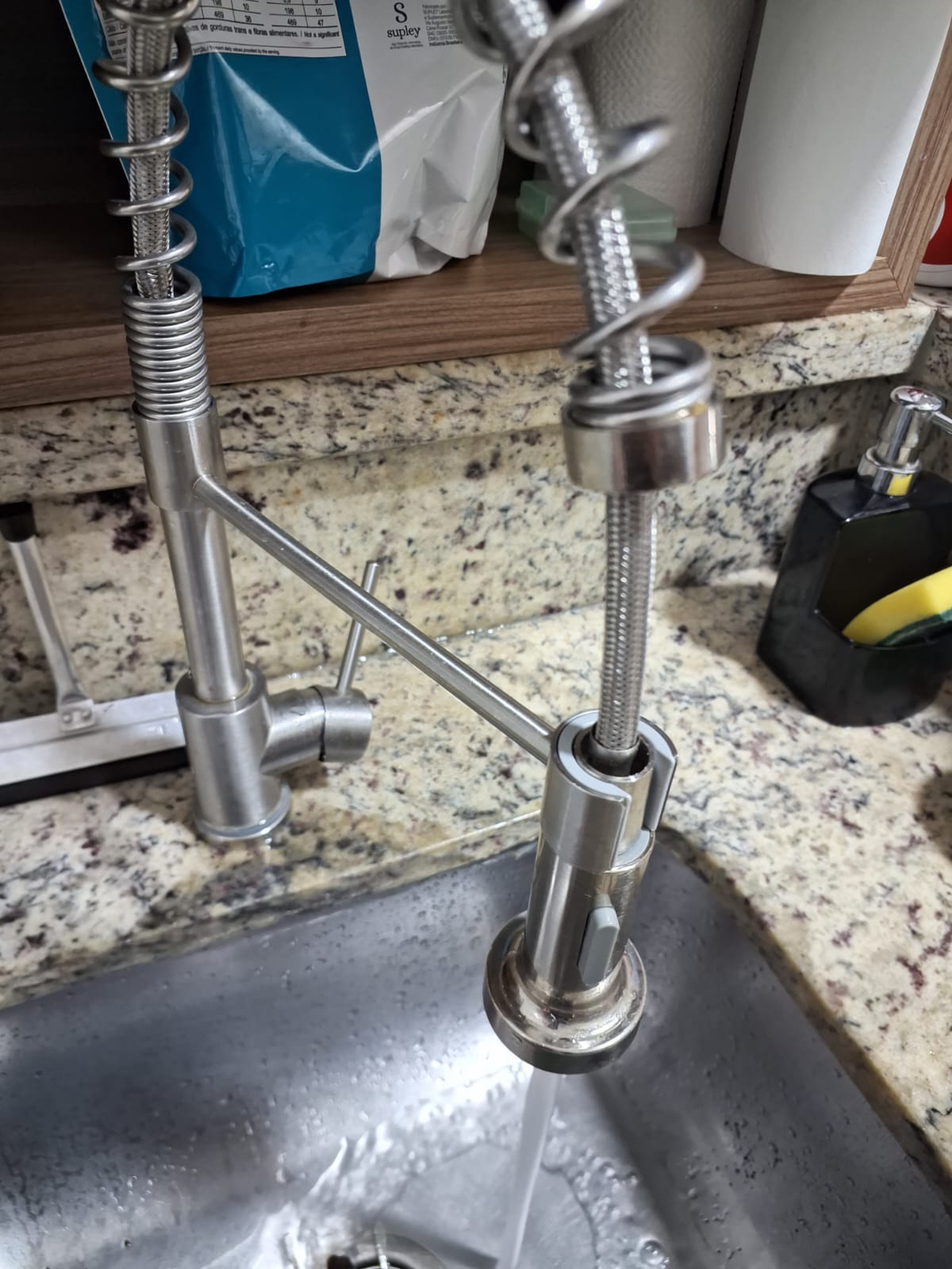torneira_aberta: (142, 494, 738, 1269)
